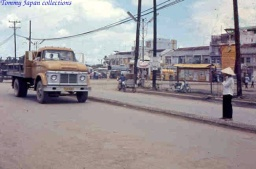car: (8, 45, 91, 105)
person: (217, 64, 236, 121)
